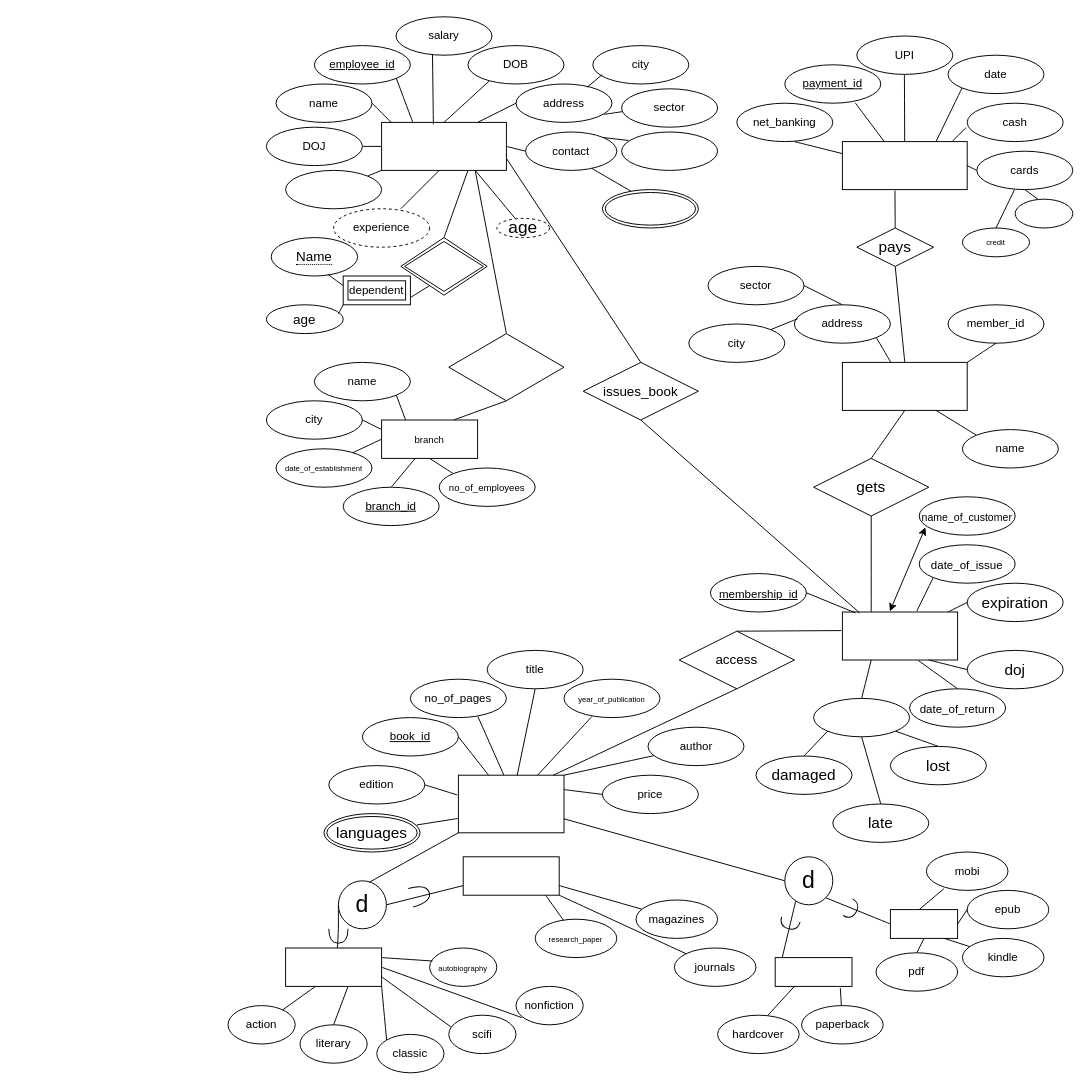
This 1090x1090 diagram has some shape labels left out. The centre of each missing label's shape, as x and y in pixels:
"books" goes at pixel 510 803.
"debit" goes at pixel 1043 213.
"designation" goes at pixel 333 189.
"ebooks" goes at pixel 923 923.
"email" goes at pixel 669 150.
"employee" goes at pixel 443 145.
"has" goes at pixel 443 266.
"member" goes at pixel 904 385.
"membership" goes at pixel 899 635.
"non-technical" goes at pixel 333 966.
"payment" goes at pixel 904 165.
"penalty" goes at pixel 861 717.
"Phone_no" goes at pixel 649 208.
"physical" goes at pixel 813 971.
"technical" goes at pixel 510 875.
"workplace_location" goes at pixel 506 367.
